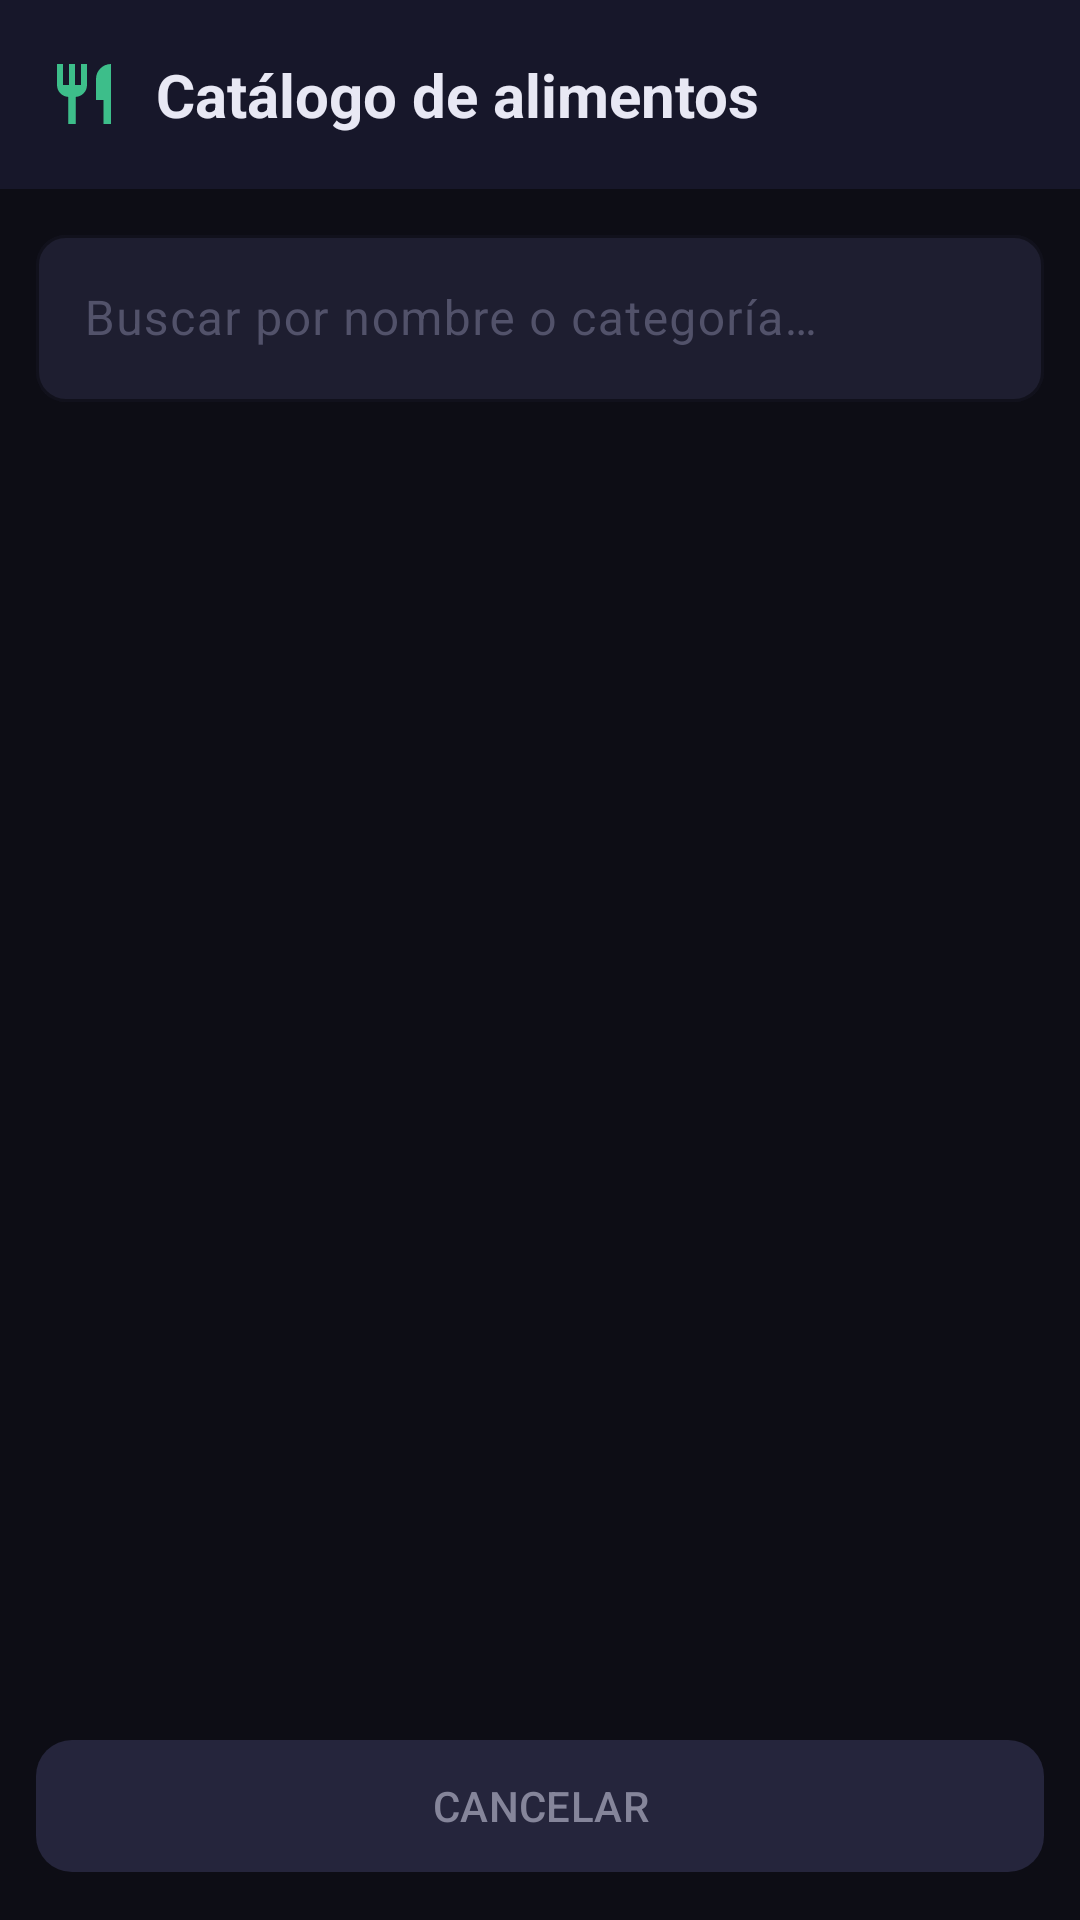

Screen size 1080w x 1920h. Icon name, then its center in pixels as (x,y):
restaurant: (84,94)
